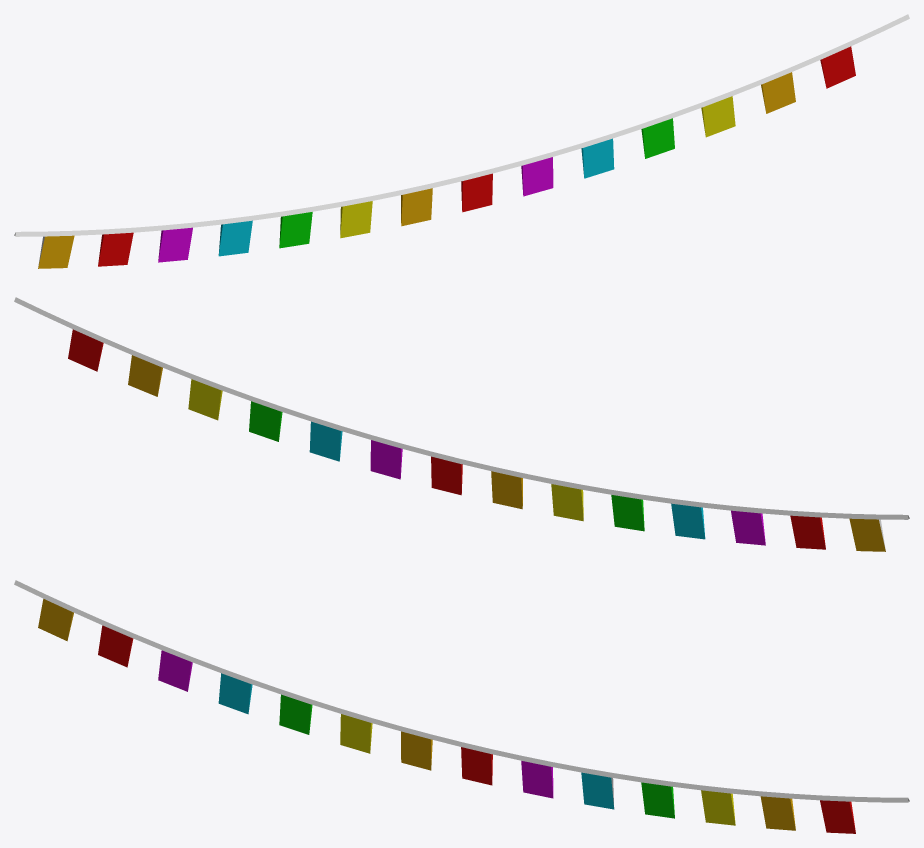
Rendered from HangingSFlag.fbx.
3 renders of one model, top to bottom at view 1: azimuth 30°, elevation 25°; view 2: azimuth 150°, elevation 25°; view 3: azimuth 330°, elevation 25°, orthographic.
Visible parts, largest first — view 1: HangingSFlagMesh; view 2: HangingSFlagMesh; view 3: HangingSFlagMesh.
Boxes of the visible parts, x1,y1,x2,y2 form: HangingSFlagMesh: (14,14,909,268); HangingSFlagMesh: (14,297,909,551); HangingSFlagMesh: (14,580,909,833).
Size of the model in its own units: 1180 by 113 by 4.19.
